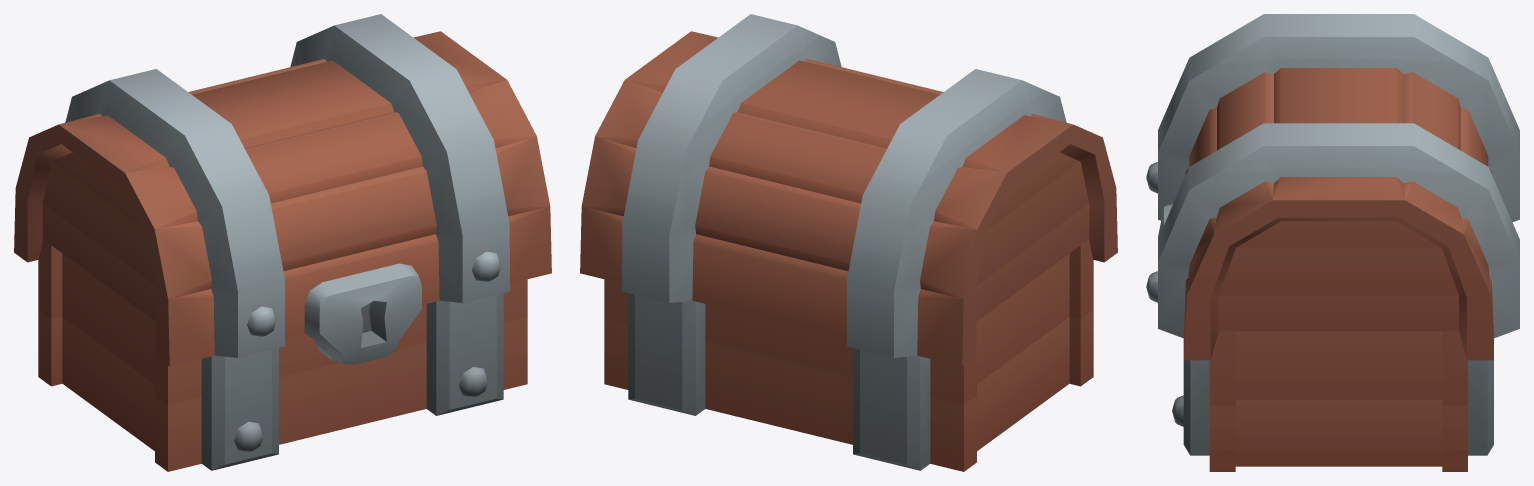
Rendered from chest.glb.
3 renders of one model, left to right at view 1: azimuth 30°, elevation 25°; view 2: azimuth 150°, elevation 25°; view 3: azimuth 270°, elevation 25°, orthographic.
Visible parts, largest first — view 1: chest_lid, Cube.11164; view 2: chest_lid, Cube.11164; view 3: chest_lid, Cube.11164.
Boxes of the visible parts, left/top/right/bottom form: chest_lid: left=14, top=14, right=551, bottom=366; Cube.11164: left=38, top=239, right=527, bottom=471; chest_lid: left=580, top=14, right=1117, bottom=366; Cube.11164: left=604, top=239, right=1093, bottom=471; chest_lid: left=1146, top=14, right=1519, bottom=360; Cube.11164: left=1172, top=331, right=1493, bottom=471.
Size of the model in its own units: 1.7 by 1.3 by 1.45.
1 material, 1 textured.
